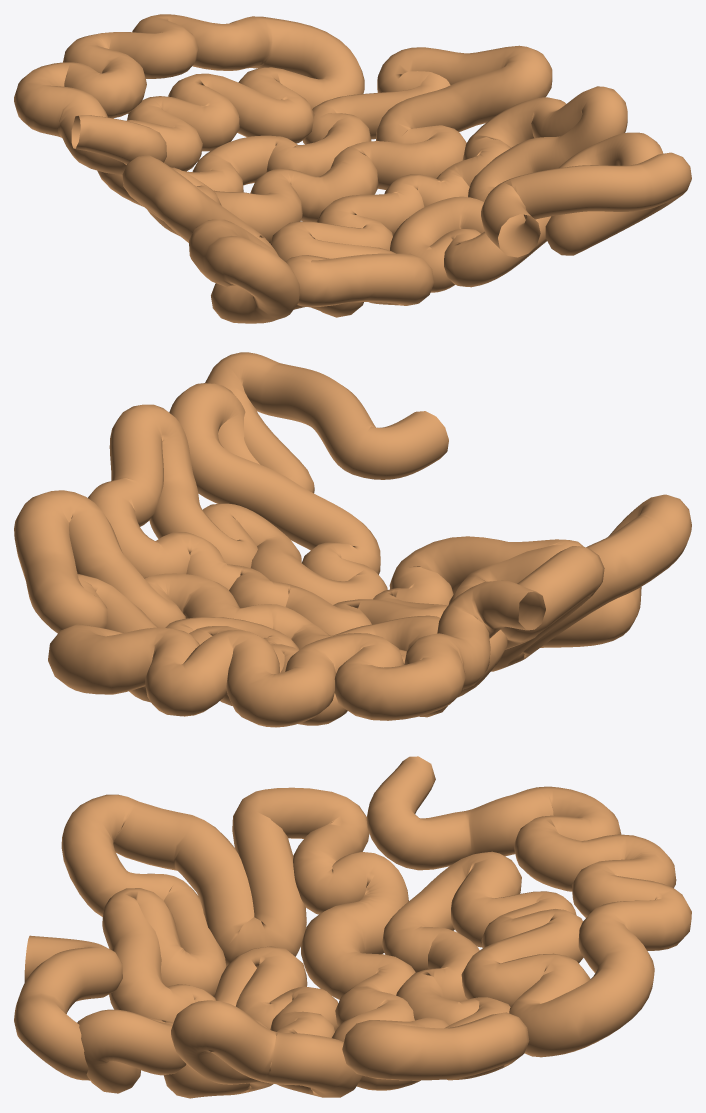
3 renders of one model, top to bottom at view 1: azimuth 30°, elevation 25°; view 2: azimuth 150°, elevation 25°; view 3: azimuth 270°, elevation 25°, orthographic. The views are drawn at different scales.
Visible parts, largest first — view 1: 空肠; view 2: 空肠; view 3: 空肠.
Part boxes in pixels (x1,y1,x2,y2): 空肠: (14, 14, 691, 323); 空肠: (14, 352, 691, 727); 空肠: (14, 756, 691, 1098).
Bounding box in the file's own units: 0.2694 × 0.0915 × 0.3075.
